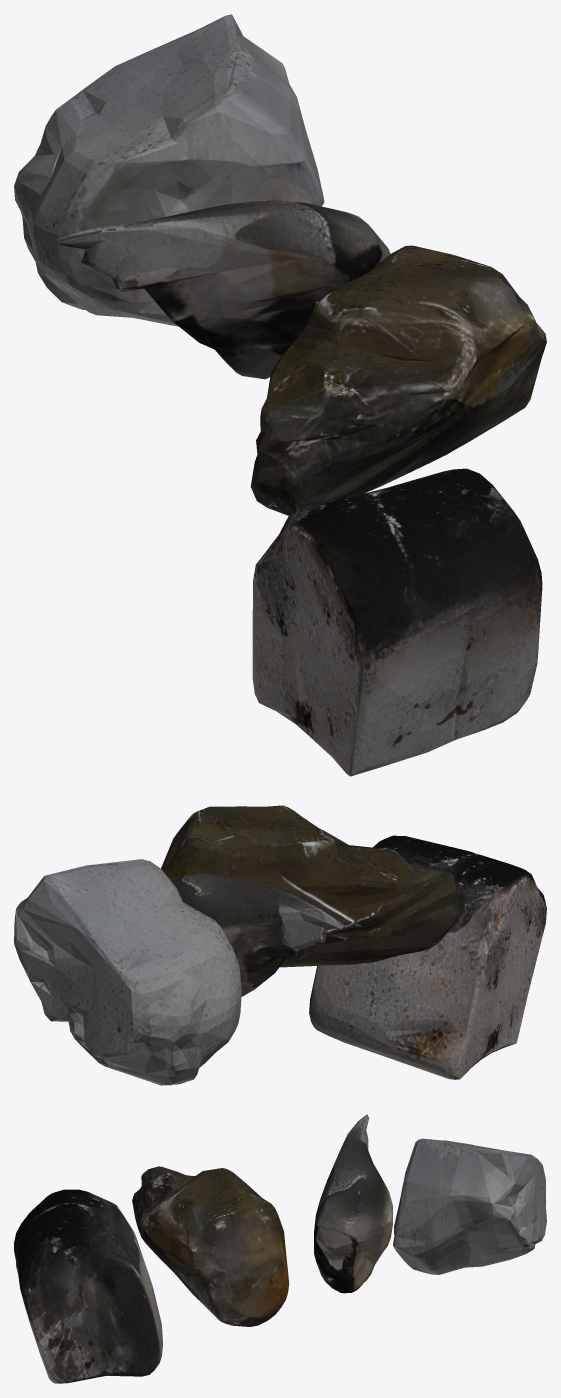
The model's file is feldspar_001.glb.
3 renders of one model, top to bottom at view 1: azimuth 30°, elevation 25°; view 2: azimuth 150°, elevation 25°; view 3: azimuth 270°, elevation 25°, orthographic. The views are drawn at different scales.
Parts seen in each view (by area): view 1: tripo_node_f55971bb-2788-4b7b-9154-2c6d840e1d12; view 2: tripo_node_f55971bb-2788-4b7b-9154-2c6d840e1d12; view 3: tripo_node_f55971bb-2788-4b7b-9154-2c6d840e1d12.
Boxes of the visible parts, x1=… form: tripo_node_f55971bb-2788-4b7b-9154-2c6d840e1d12: x1=14, y1=14, x2=546, y2=776; tripo_node_f55971bb-2788-4b7b-9154-2c6d840e1d12: x1=14, y1=805, x2=546, y2=1085; tripo_node_f55971bb-2788-4b7b-9154-2c6d840e1d12: x1=14, y1=1114, x2=546, y2=1383.
Bounding box in the file's own units: 0.4536 × 0.5194 × 0.9492.
1 material, 1 textured.
